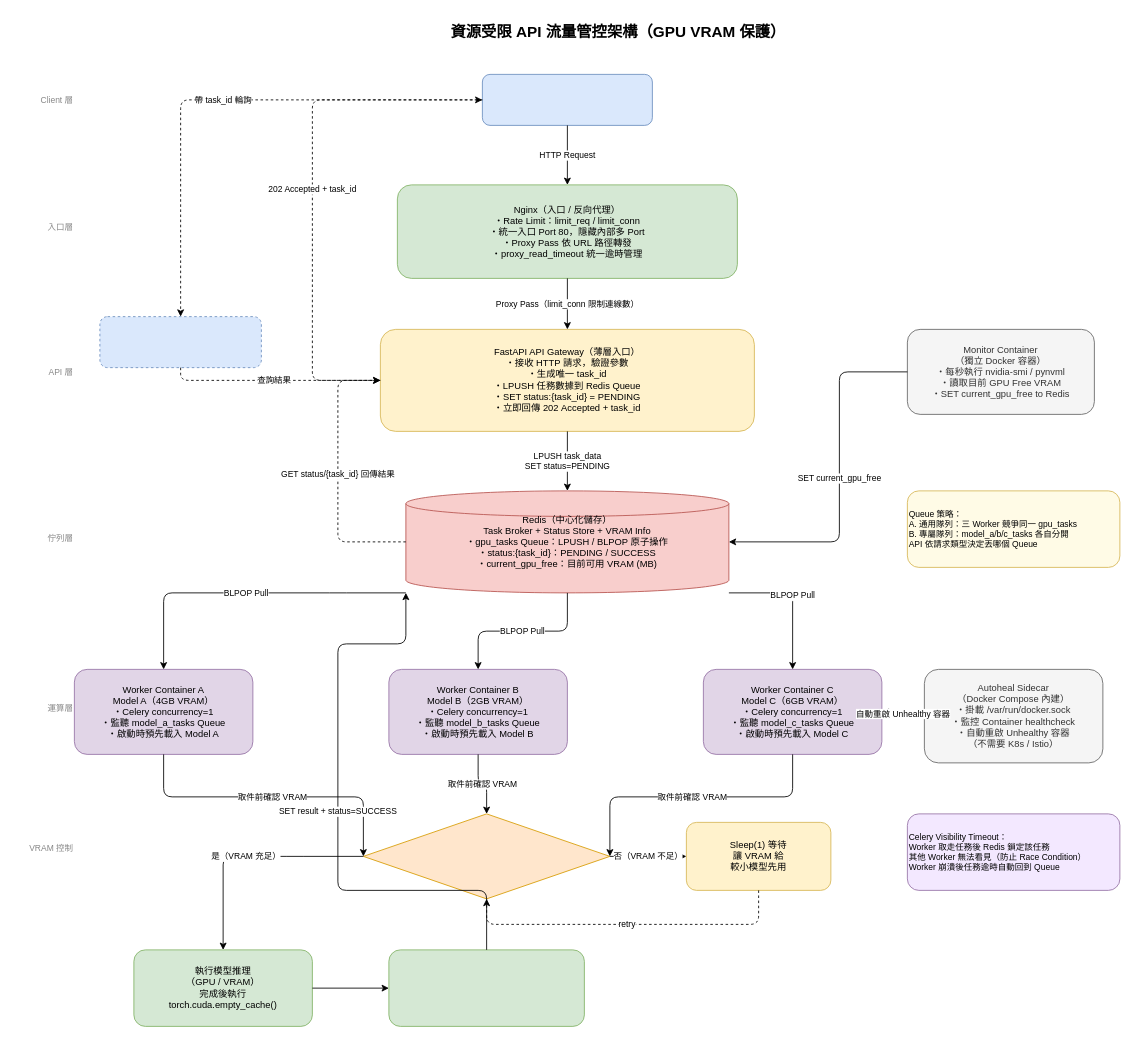
The diagram is 1135 pixels wide and 1041 high, and some of its shapes have lost their labels. The shapes that lost their labels are listed below. From the top down, each one's box as (x1, y1, x2, y2) in pixels, then its label:
(482, 74, 652, 125): Client / Web App
(99, 316, 261, 368): GET /result/{task_id} Client Polling 輪詢結果
(363, 813, 610, 899): VRAM 足夠？ current_gpu_free > MODEL_NEED_VRAM
(388, 949, 584, 1026): 寫入結果到 Redis SET result:{task_id} = 推理結果 SET status:{task_id} = SUCCESS
